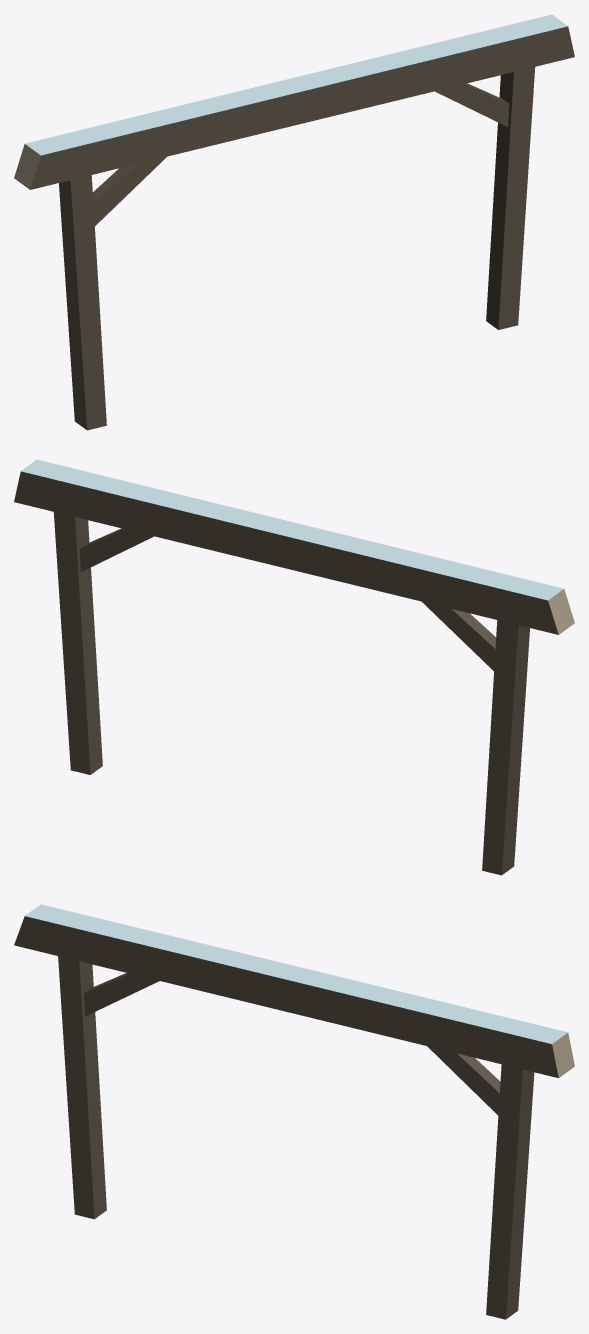
File: SM_Prop_Western_Town_Arch_01_Snow.fbx
3 views of the same model, one above another, from view 1: azimuth 30°, elevation 25°; view 2: azimuth 150°, elevation 25°; view 3: azimuth 330°, elevation 25° (orthographic).
Parts seen in each view (by area): view 1: SM_Prop_Western_Town_Arch_01_Snow; view 2: SM_Prop_Western_Town_Arch_01_Snow; view 3: SM_Prop_Western_Town_Arch_01_Snow.
Boxes of the visible parts, x1,y1,x2,y2 form: SM_Prop_Western_Town_Arch_01_Snow: [14, 14, 574, 430]; SM_Prop_Western_Town_Arch_01_Snow: [14, 459, 574, 875]; SM_Prop_Western_Town_Arch_01_Snow: [14, 904, 574, 1319].
Size of the model in its own units: 112 by 56.79 by 5.78.
1 material, 1 textured.
